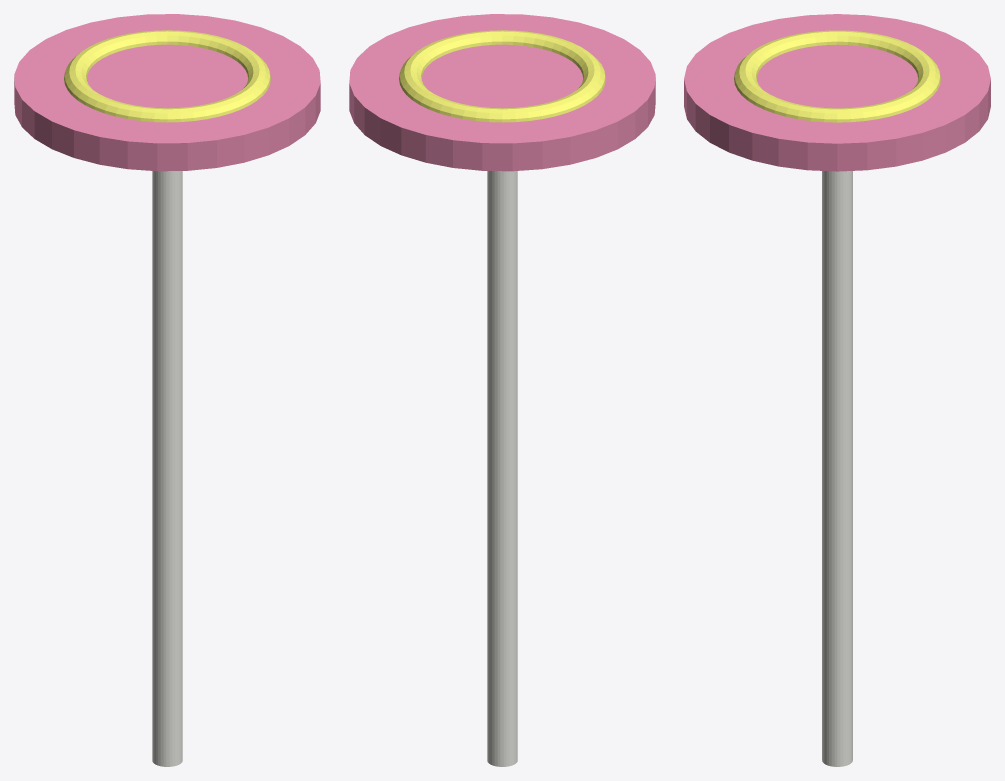
Rendered from lollipop.glb.
3 views of the same model, side by side, from view 1: azimuth 30°, elevation 25°; view 2: azimuth 150°, elevation 25°; view 3: azimuth 270°, elevation 25° (orthographic).
Parts seen in each view (by area): view 1: Cylinder, Cylinder.001, Torus; view 2: Cylinder, Cylinder.001, Torus; view 3: Cylinder, Cylinder.001, Torus.
Boxes of the visible parts, left/top/right/bottom form: Cylinder: left=14, top=14, right=320, bottom=171; Cylinder.001: left=152, top=171, right=182, bottom=766; Torus: left=64, top=30, right=270, bottom=122; Cylinder: left=349, top=14, right=655, bottom=171; Cylinder.001: left=487, top=171, right=517, bottom=766; Torus: left=399, top=30, right=605, bottom=122; Cylinder: left=684, top=14, right=990, bottom=171; Cylinder.001: left=822, top=171, right=852, bottom=766; Torus: left=734, top=30, right=940, bottom=122.
Size of the model in its own units: 0.5 by 1.24 by 0.5.
